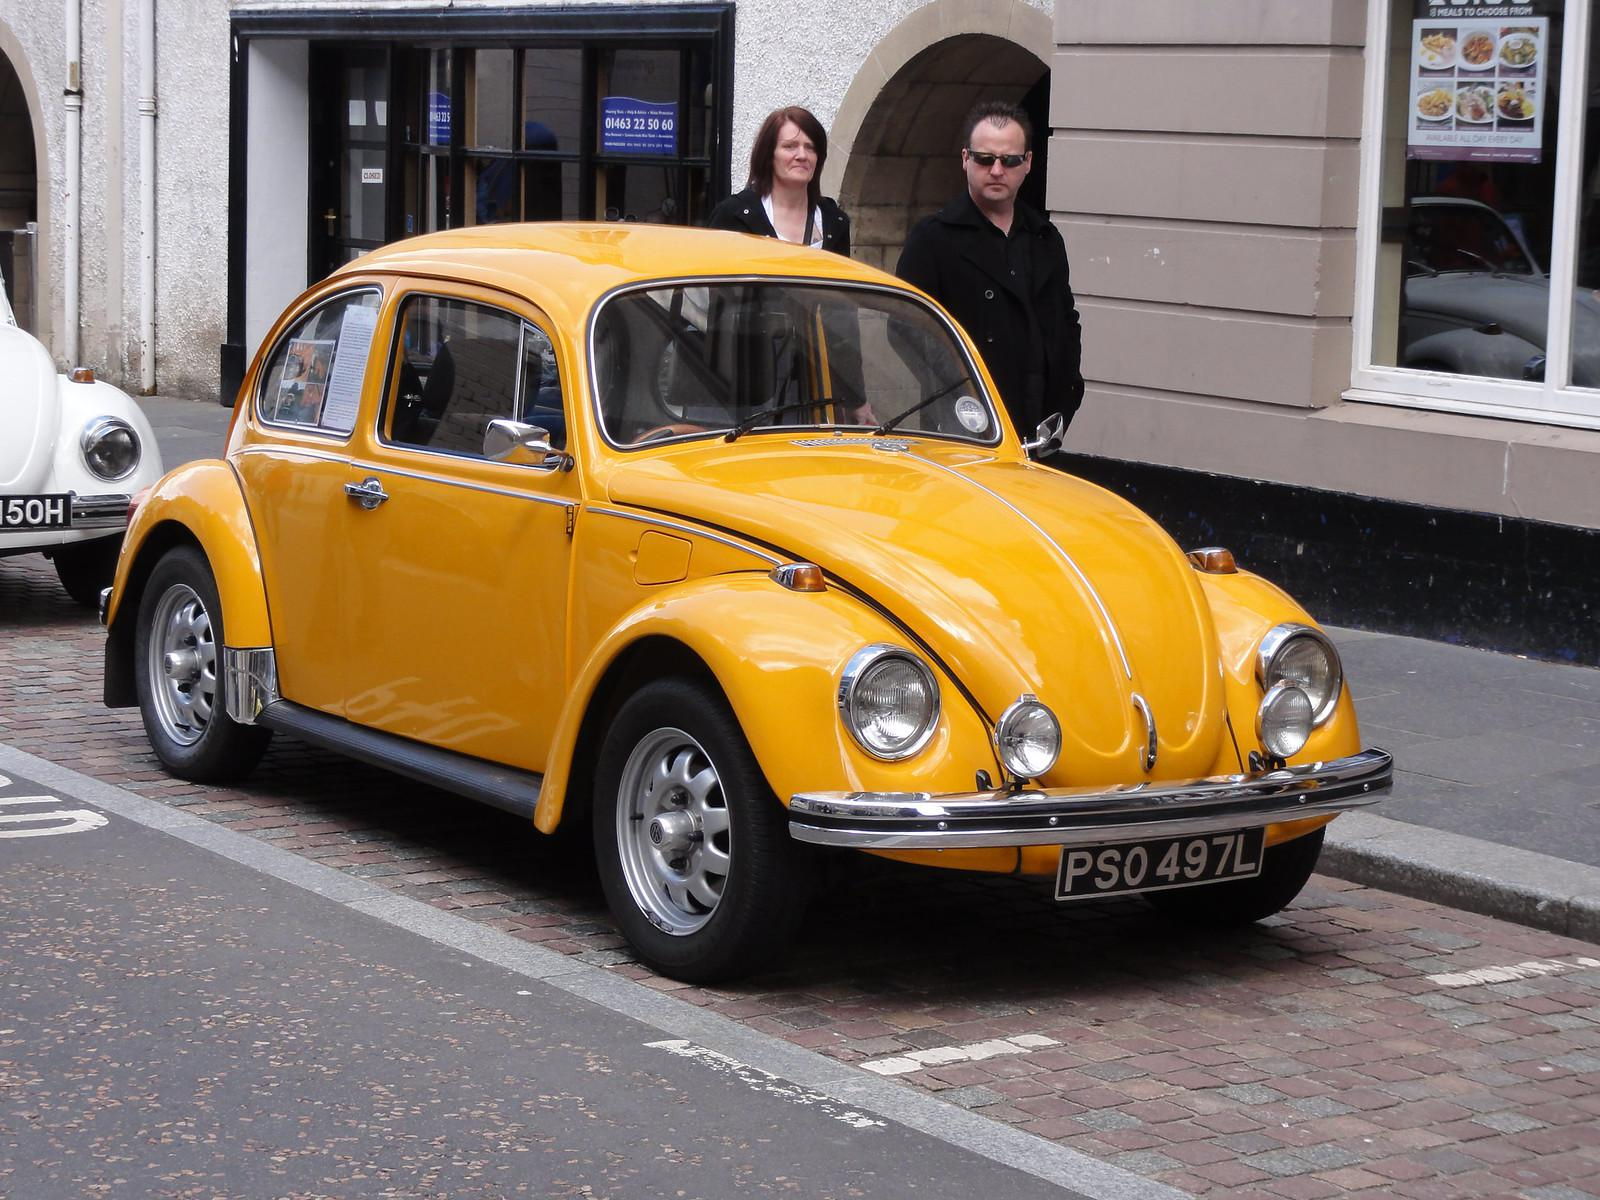fender-dent: (561, 511, 797, 673)
